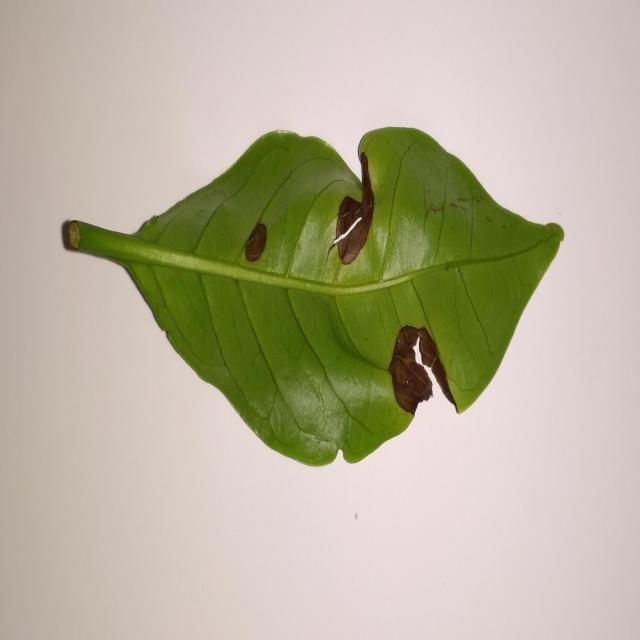phoma: (389, 325, 459, 418), (328, 148, 375, 265), (230, 221, 272, 280)
